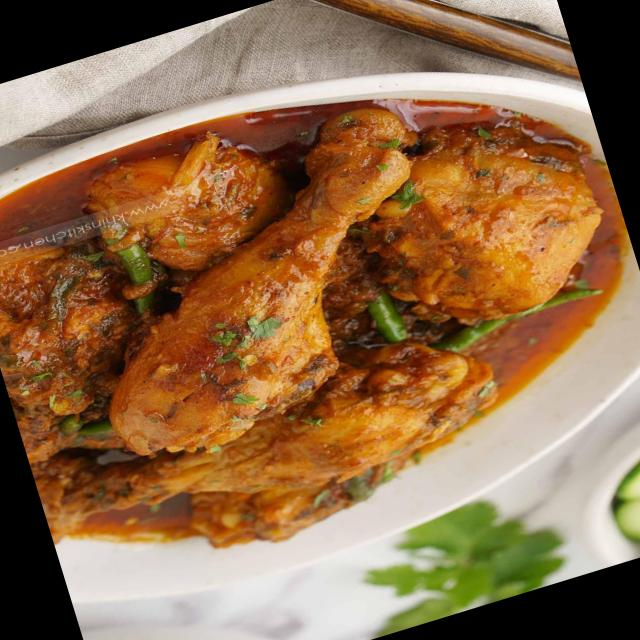chicken: (0, 26, 640, 591)
